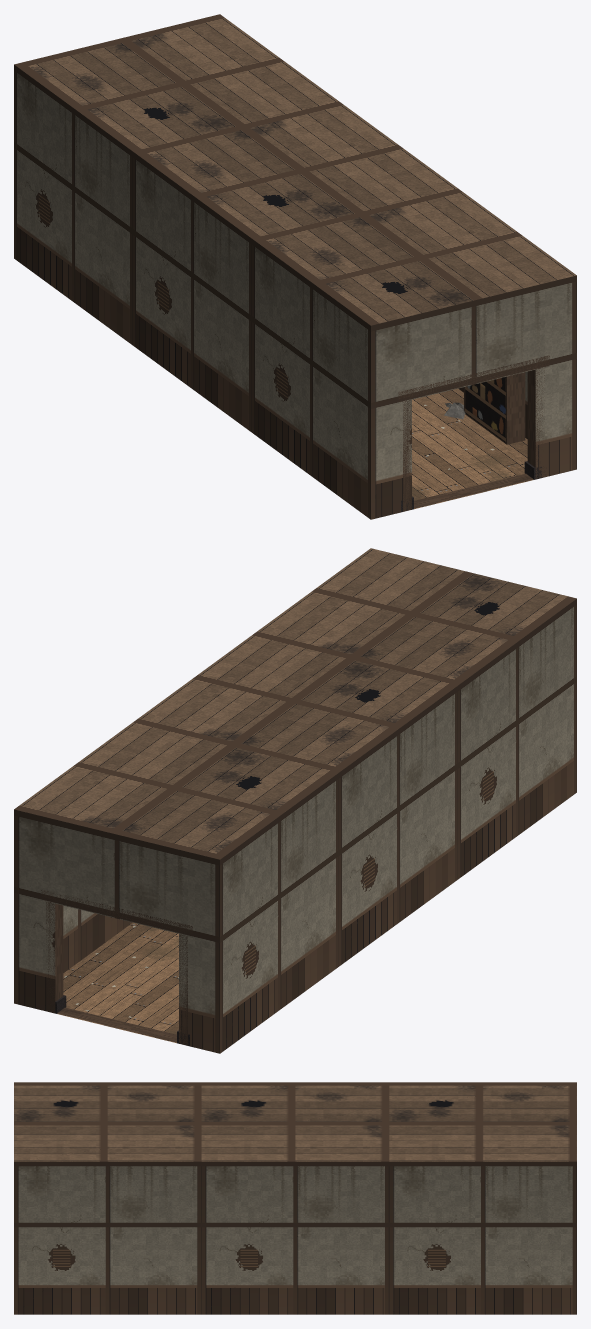
The picture shows the model from 3 angles, top to bottom: view 1: azimuth 30°, elevation 25°; view 2: azimuth 150°, elevation 25°; view 3: azimuth 270°, elevation 25°; orthographic projection. The views are drawn at different scales.
Visible parts, largest first — view 1: -_A, -_A_Deco; view 2: -_A, -_A_Deco; view 3: -_A.
Part boxes in pixels (x1,y1,x2,y2): -_A: (14,14,576,519); -_A_Deco: (401,402,545,512); -_A: (14,548,576,1053); -_A_Deco: (55,995,189,1046); -_A: (14,1082,576,1314).
Size of the model in its own units: 2 by 0.6667 by 0.6.
Materials: 4 (4 with a texture image).
